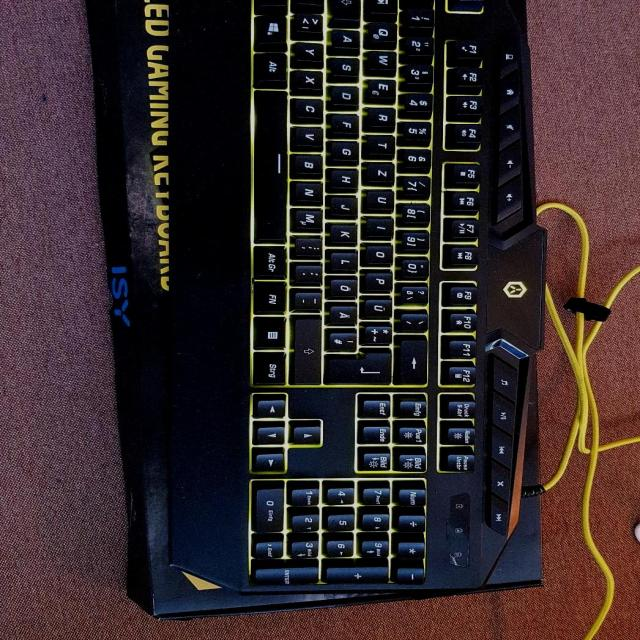0: (399, 257, 430, 278)
1: (402, 7, 435, 28)
2: (401, 35, 434, 55)
3: (402, 62, 434, 85)
4: (401, 90, 433, 114)
5: (399, 119, 431, 143)
6: (399, 147, 431, 171)
7: (398, 173, 430, 197)
8: (400, 204, 431, 225)
9: (401, 230, 432, 251)
a: (329, 27, 361, 48)
accent: (399, 311, 428, 331)
ae: (326, 302, 356, 324)
alt-left: (254, 51, 286, 83)
altgr-right: (255, 245, 285, 278)
b: (293, 154, 323, 175)
c: (290, 96, 323, 121)
caret: (402, 0, 435, 10)
comma: (293, 236, 323, 258)
d: (327, 83, 360, 106)
del: (399, 339, 426, 386)
e: (365, 78, 396, 102)
enter: (325, 351, 391, 383)
f: (330, 113, 360, 134)
g: (330, 141, 360, 162)
h: (329, 168, 359, 189)
hash: (328, 330, 358, 352)
i: (363, 215, 393, 237)
j: (329, 196, 359, 217)
k: (328, 222, 358, 243)
keyboard: (208, 0, 544, 591)
l: (328, 251, 358, 272)
less: (291, 11, 323, 33)
m: (292, 209, 322, 231)
minus: (293, 291, 323, 313)
n: (293, 181, 323, 203)
o: (363, 242, 393, 264)
oe: (327, 275, 357, 298)
p: (364, 270, 393, 291)
plus: (364, 325, 394, 347)
point: (293, 264, 323, 286)
q: (366, 21, 399, 44)
r: (365, 106, 396, 130)
s: (327, 55, 360, 77)
shift-left: (292, 0, 325, 15)
shift-lock: (331, 0, 363, 23)
shift-right: (292, 318, 322, 385)
space: (253, 90, 288, 243)
ss: (397, 283, 428, 304)
strg-left: (256, 0, 289, 15)
strg-right: (254, 351, 284, 384)
t: (365, 134, 395, 155)
tab: (367, 0, 397, 18)
u: (363, 189, 394, 211)
ue: (362, 299, 392, 321)
v: (294, 127, 324, 148)
w: (364, 49, 397, 72)
x: (291, 68, 323, 89)
y: (292, 41, 325, 63)
z: (365, 162, 395, 184)
